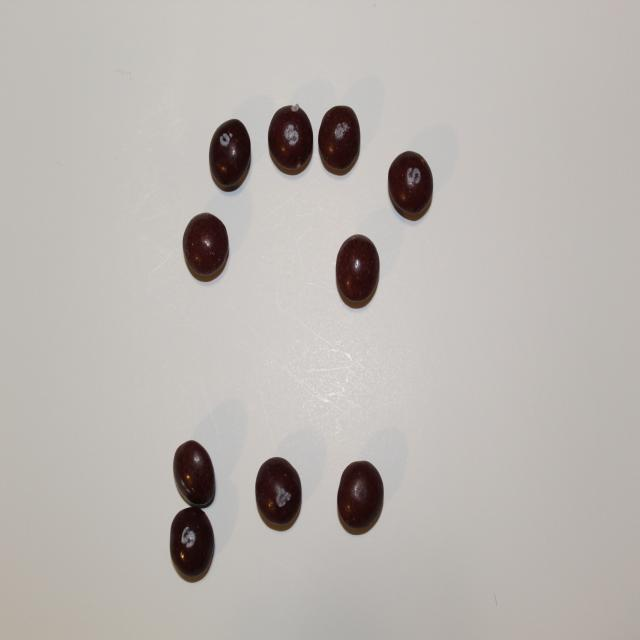smartie: (338, 461, 384, 535), (256, 458, 302, 531), (336, 234, 380, 308), (182, 212, 229, 281), (268, 103, 313, 174), (169, 508, 214, 579), (388, 150, 434, 219), (318, 104, 360, 174), (210, 119, 250, 190), (173, 440, 215, 507)
